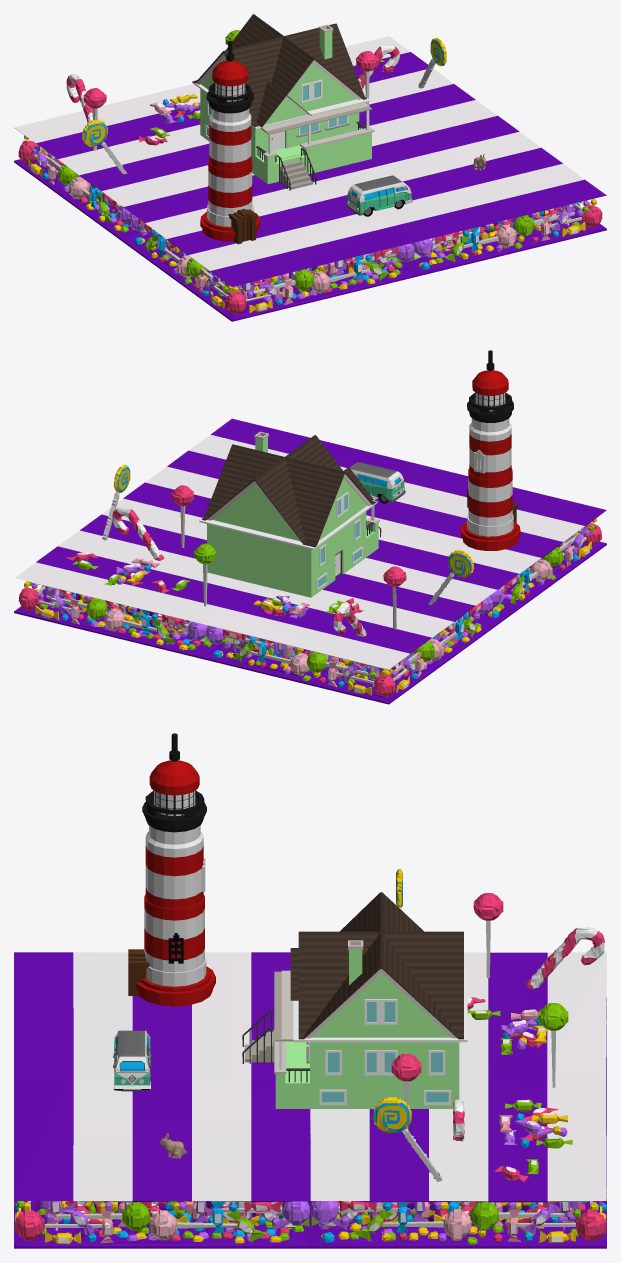
3 views of the same model, one above another, from view 1: azimuth 30°, elevation 25°; view 2: azimuth 150°, elevation 25°; view 3: azimuth 270°, elevation 25° (orthographic). The views are drawn at different scales.
Parts seen in each view (by area): view 1: TERRAIN_CANDY, Cube.274, OBJRANDOM_LIGHTHOUSE, VEHICLES_VAN; view 2: TERRAIN_CANDY, Cube.274, OBJRANDOM_LIGHTHOUSE, VEHICLES_VAN; view 3: TERRAIN_CANDY, Cube.274, OBJRANDOM_LIGHTHOUSE, VEHICLES_VAN.
Part boxes in pixels (x1=…): TERRAIN_CANDY: x1=14, y1=30, x2=606, y2=321; Cube.274: x1=192, y1=14, x2=374, y2=190; OBJRANDOM_LIGHTHOUSE: x1=200, y1=40, x2=260, y2=244; VEHICLES_VAN: x1=346, y1=175, x2=412, y2=216; TERRAIN_CANDY: x1=14, y1=418, x2=606, y2=704; Cube.274: x1=199, y1=431, x2=381, y2=597; OBJRANDOM_LIGHTHOUSE: x1=460, y1=350, x2=520, y2=550; VEHICLES_VAN: x1=350, y1=462, x2=405, y2=503; TERRAIN_CANDY: x1=14, y1=868, x2=606, y2=1248; Cube.274: x1=242, y1=892, x2=467, y2=1108; OBJRANDOM_LIGHTHOUSE: x1=128, y1=733, x2=215, y2=1006; VEHICLES_VAN: x1=113, y1=1030, x2=151, y2=1091.
Bounding box in the file's own units: 4059 × 2437 × 4000.
Materials: 35 (2 with a texture image).
